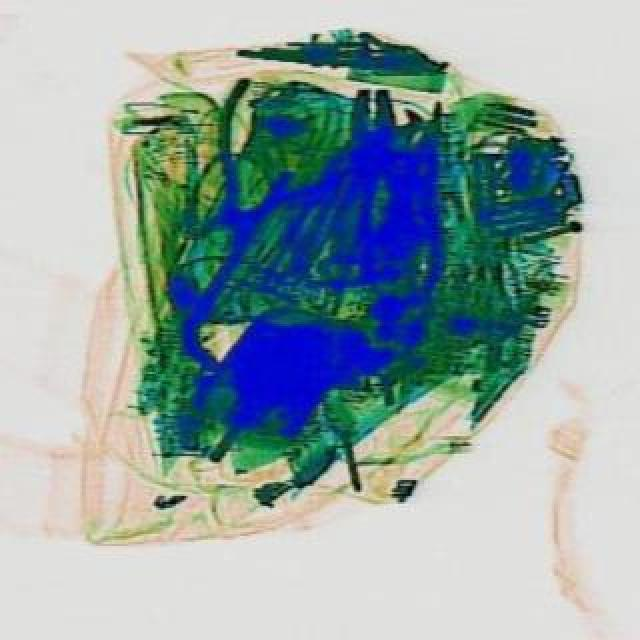wrench: (152, 80, 364, 284), (328, 90, 412, 258)
